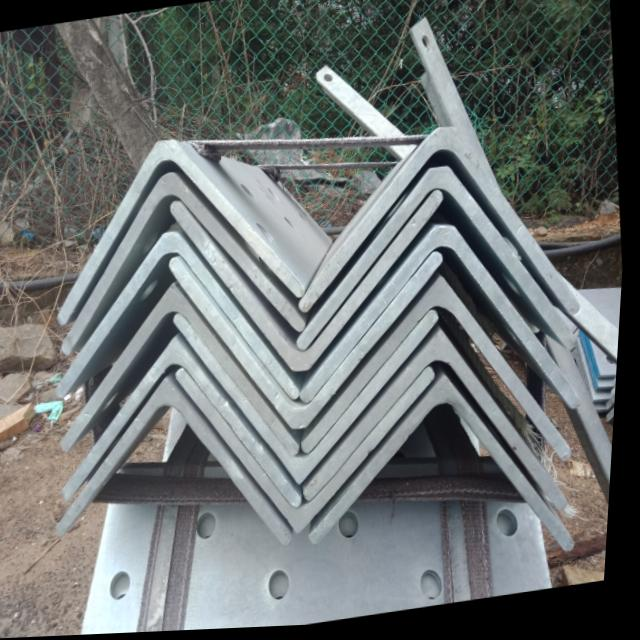metal-angles: (302, 130, 584, 319), (305, 229, 586, 414), (300, 170, 581, 354), (307, 279, 578, 467), (172, 193, 446, 374), (309, 332, 574, 516), (172, 256, 446, 432), (315, 380, 581, 556), (177, 313, 443, 488), (61, 140, 309, 326), (66, 173, 310, 357), (180, 371, 439, 537), (66, 339, 308, 511), (65, 284, 304, 458), (60, 233, 305, 402), (62, 377, 299, 549)
